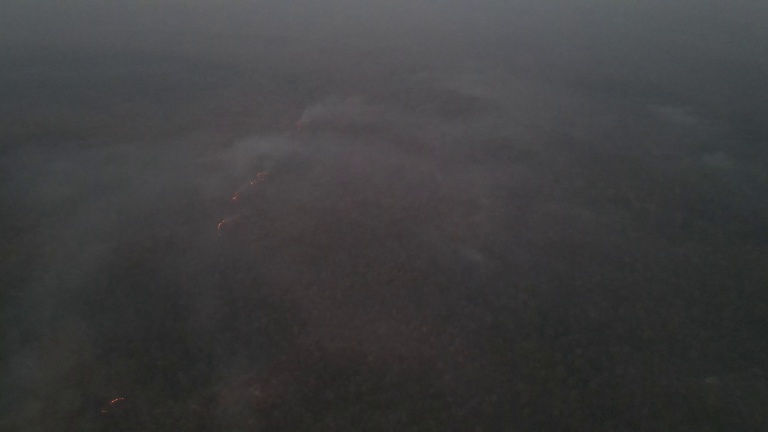fire: (230, 172, 270, 202), (100, 397, 124, 416), (211, 215, 227, 239), (287, 119, 303, 134)
smoke: (229, 131, 317, 176), (305, 92, 366, 126)
